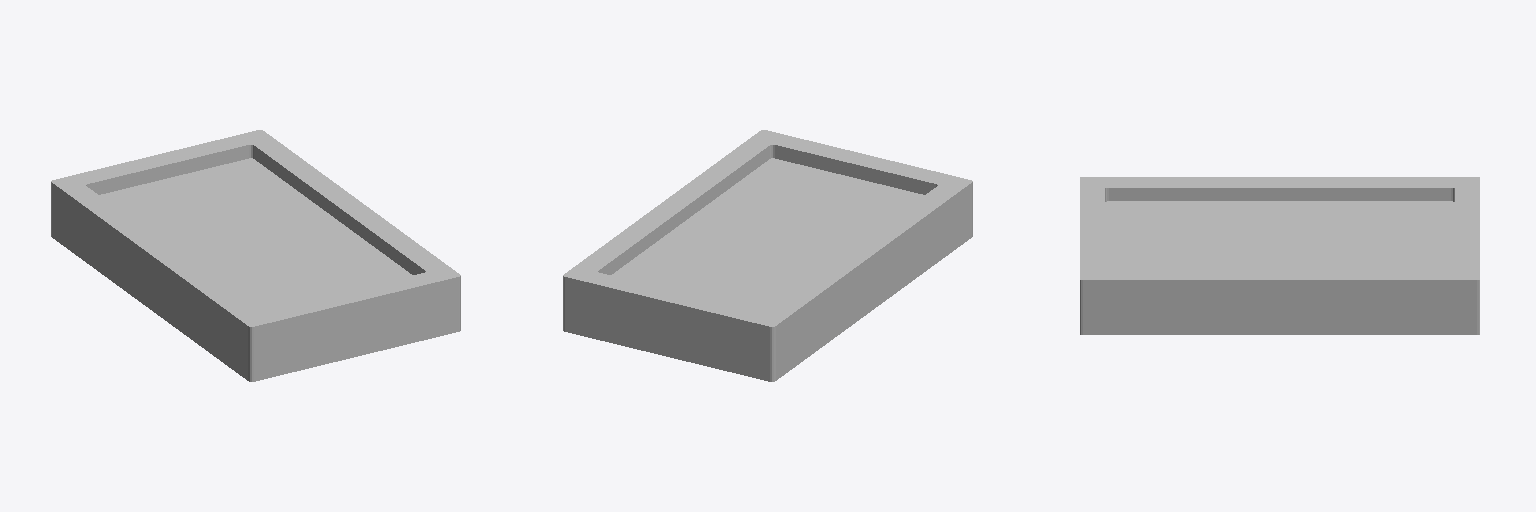
Rendered from 501board.obj.
3 views of the same model, side by side, from view 1: azimuth 30°, elevation 25°; view 2: azimuth 150°, elevation 25°; view 3: azimuth 270°, elevation 25° (orthographic).
Visible parts, largest first — view 1: Plane002; view 2: Plane002; view 3: Plane002.
Boxes of the visible parts, box(x1,y1,x2,y2) form: Plane002: box(51, 130, 460, 381); Plane002: box(563, 130, 972, 381); Plane002: box(1080, 177, 1479, 334).
Bounding box in the file's own units: 1053 × 262 × 1726.